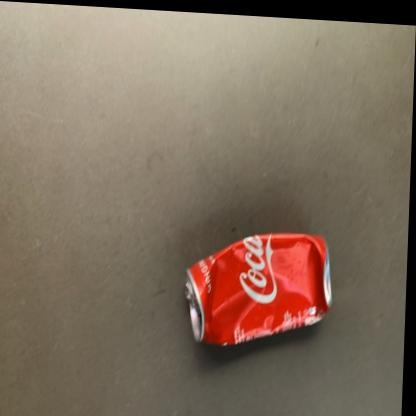trash: (186, 233, 331, 345)
